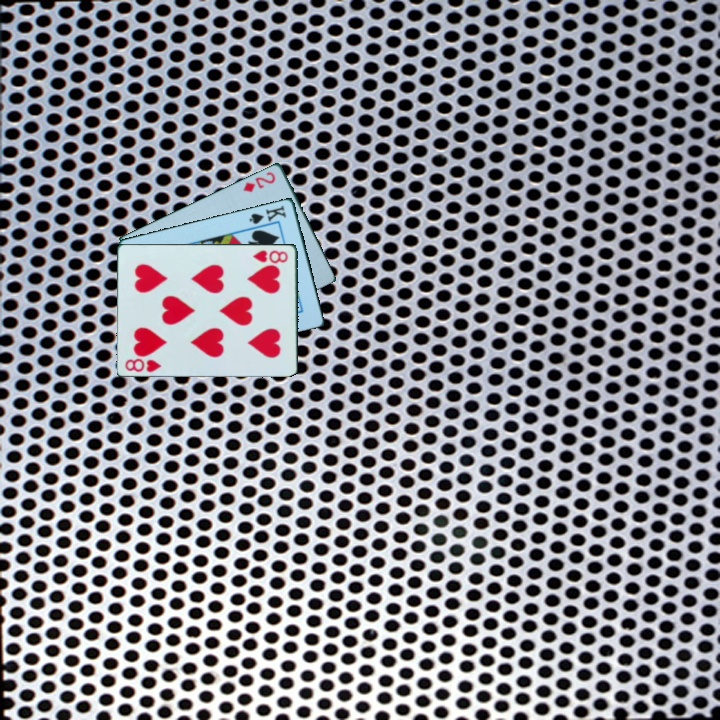2d: (239, 168, 278, 195)
8h: (122, 355, 164, 375), (250, 246, 291, 266)
Ks: (246, 201, 289, 227)
